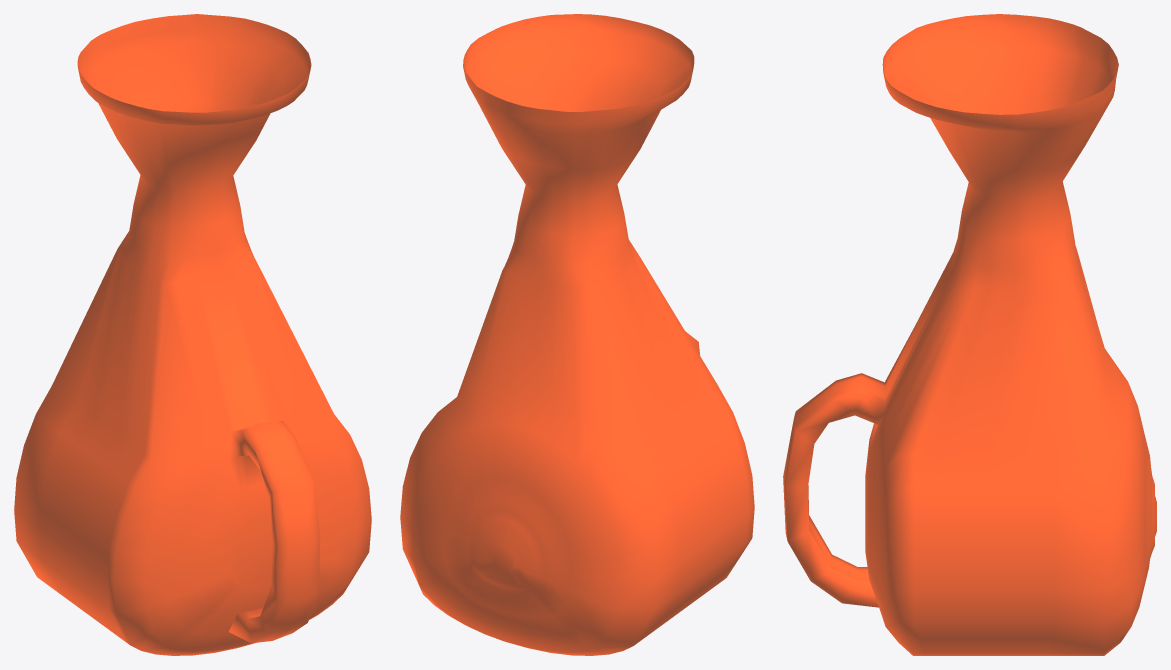
The model's file is vase2cp.glb.
3 renders of one model, left to right at view 1: azimuth 30°, elevation 25°; view 2: azimuth 150°, elevation 25°; view 3: azimuth 270°, elevation 25°, orthographic. The views are drawn at different scales.
Parts seen in each view (by area): view 1: worange vase; view 2: worange vase; view 3: worange vase.
Boxes of the visible parts, x1=… form: worange vase: x1=14, y1=14, x2=371, y2=655; worange vase: x1=400, y1=14, x2=754, y2=655; worange vase: x1=783, y1=14, x2=1156, y2=655.
Size of the model in its own units: 0.8845 by 1.81 by 1.09.
